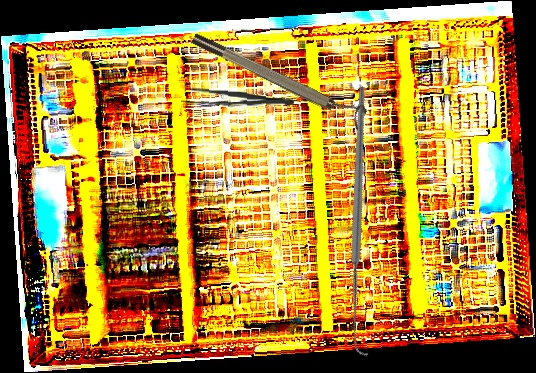Dressing Forceps: (180, 87, 295, 111)
Fixation Ring: (189, 22, 369, 132)
Hook Surgical: (238, 83, 489, 359)
